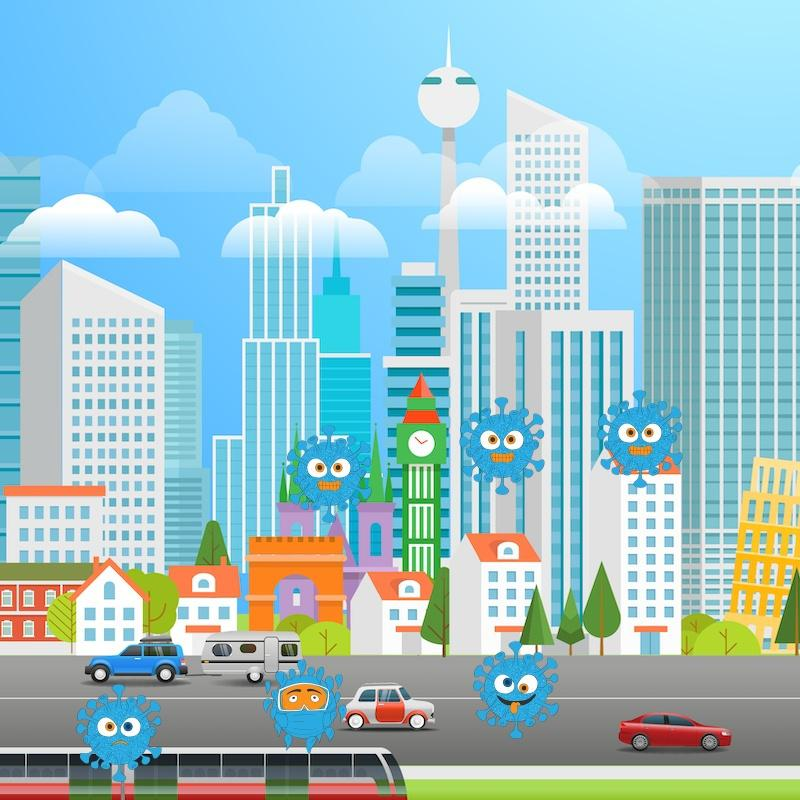corona1: (592, 390, 680, 490), (284, 423, 369, 524), (461, 401, 546, 496)
corona2: (72, 685, 163, 783)
corona3: (474, 645, 560, 742)
doctor: (262, 665, 352, 755)
